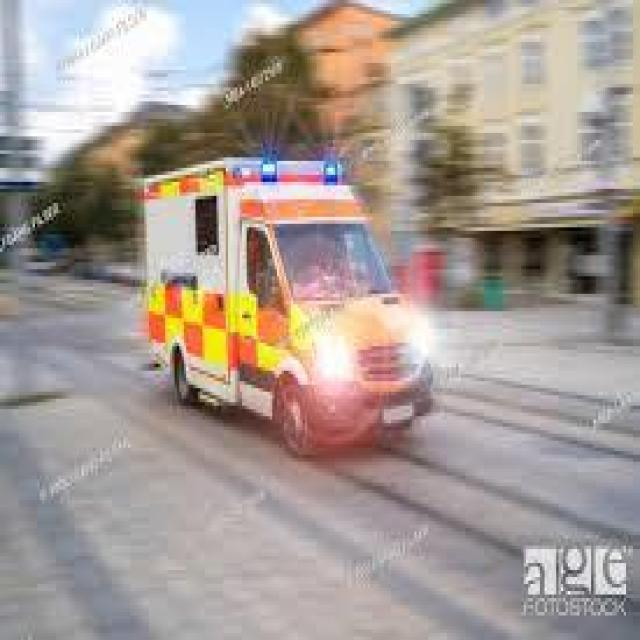ambulance: (159, 202, 283, 407), (219, 156, 349, 198)
